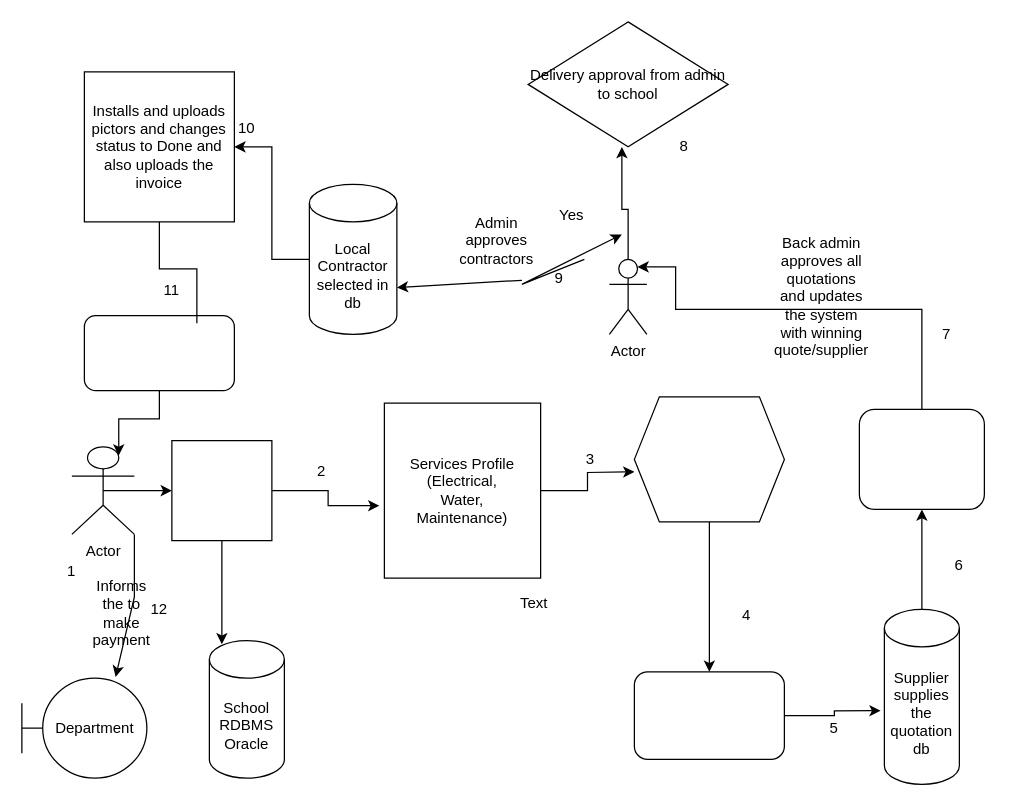
This 1019x806 diagram has some shape labels left out. The box of each missing label's shape, as (x1, y1, x2, y2) in pixels:
Localities Service db based on school request: (633, 671, 784, 759)
Principal verifies for payment to proceed: (83, 314, 234, 391)
school: (171, 439, 272, 541)
Sends the quote to the system: (858, 408, 984, 509)
Service Details selected: (633, 396, 784, 522)
